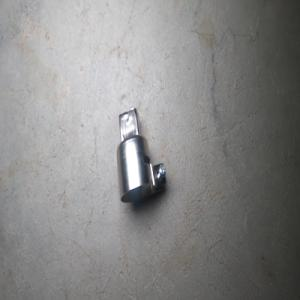MetalPart: (115, 106, 166, 203)
